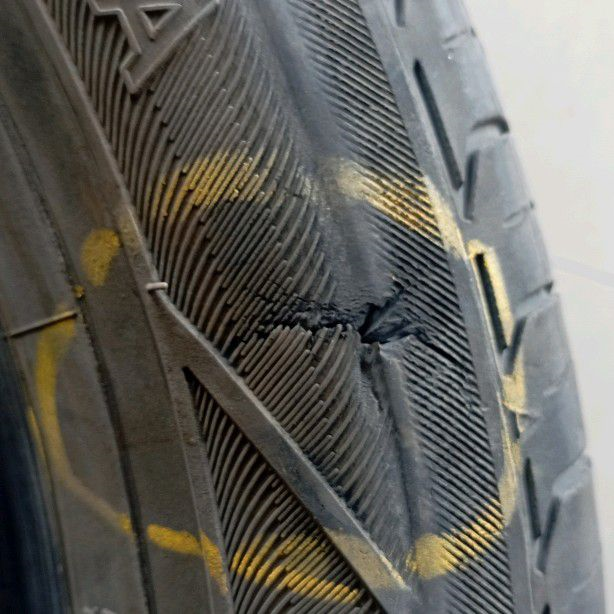cut: (224, 281, 443, 423)
